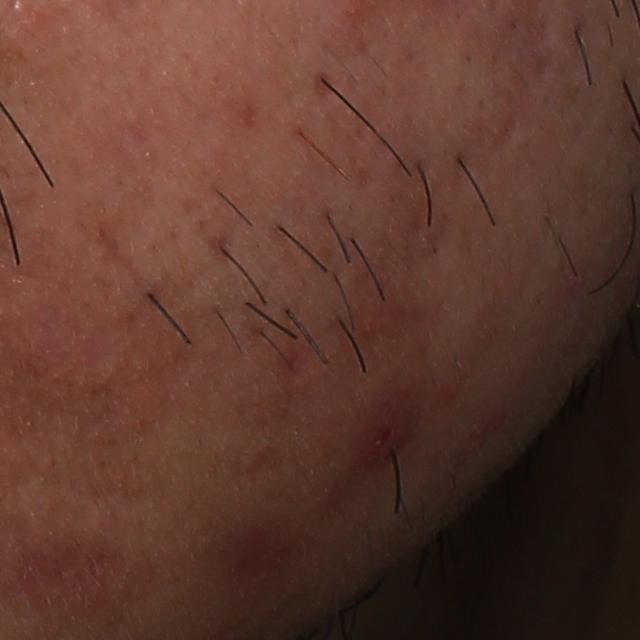papule: (358, 420, 410, 468)
